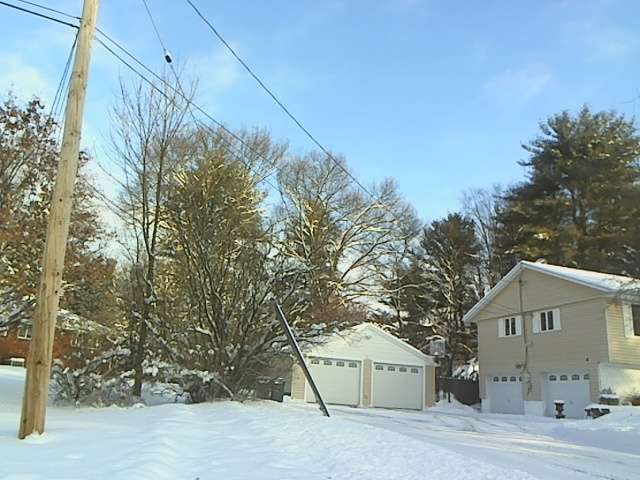Unploughed: (350, 400, 576, 456)
